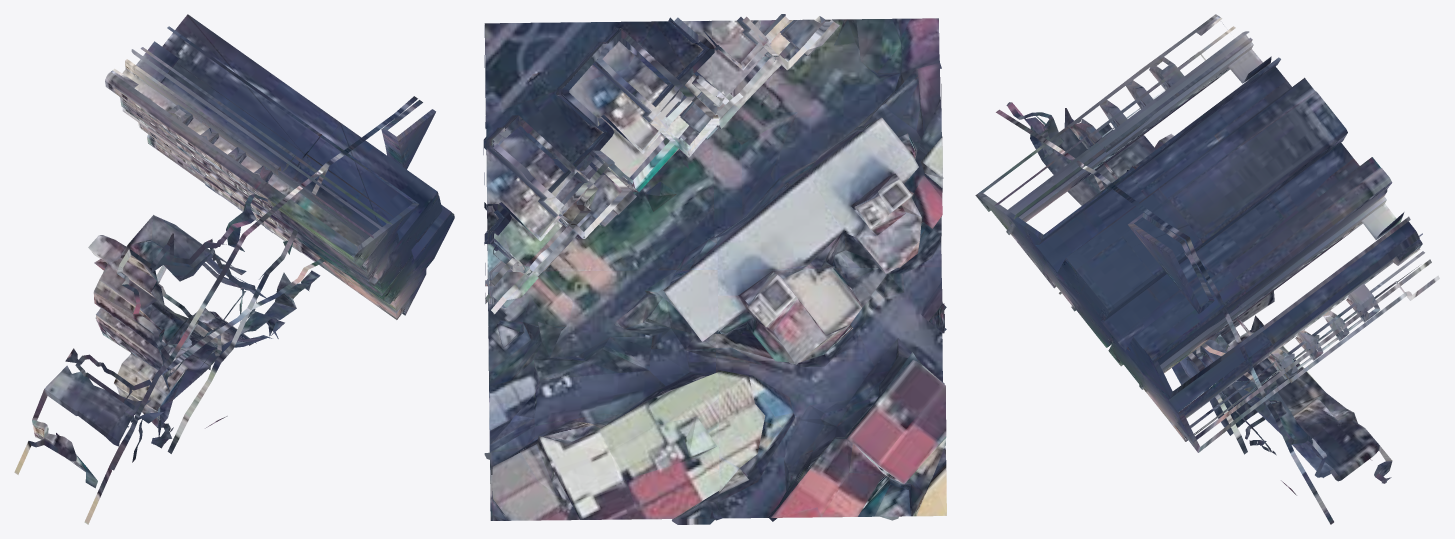
3 renders of one model, left to right at view 1: azimuth 30°, elevation 25°; view 2: azimuth 150°, elevation 25°; view 3: azimuth 270°, elevation 25°, orthographic. The views are drawn at different scales.
Bounding box in the file's own units: 89.14 × 87.26 × 89.77.
2 materials, 2 textured.
